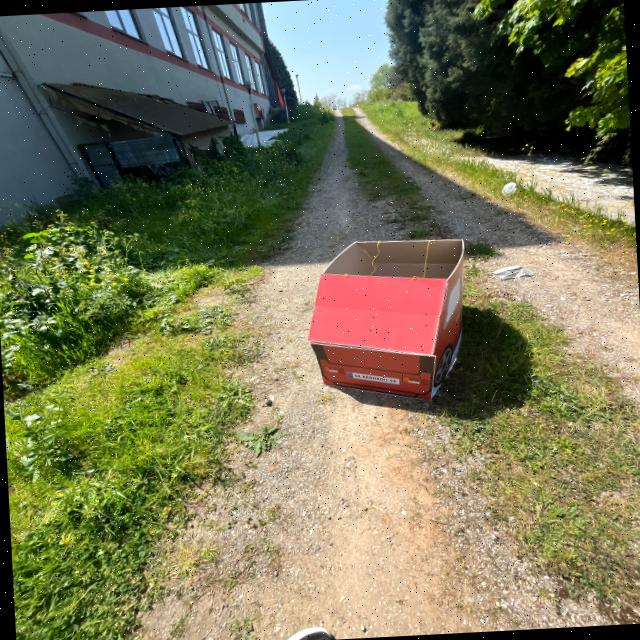red_car: (295, 227, 491, 429)
